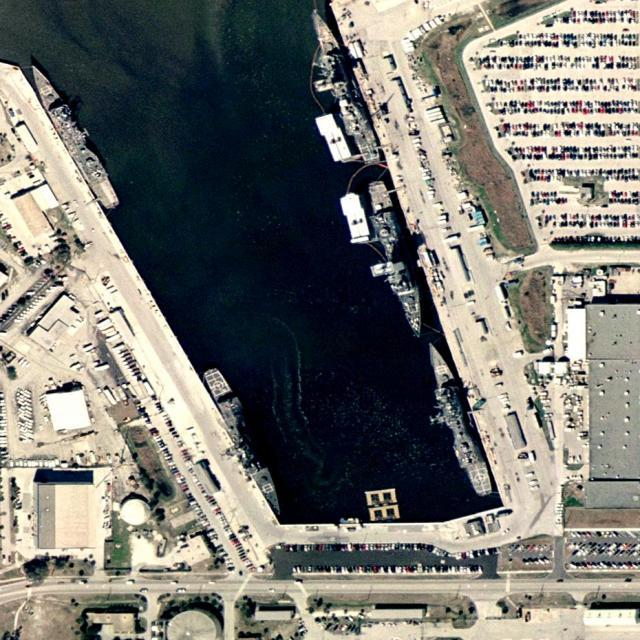Frigate: (23, 60, 123, 211), (200, 363, 291, 518), (420, 339, 496, 500), (307, 6, 380, 164), (364, 177, 429, 339)
